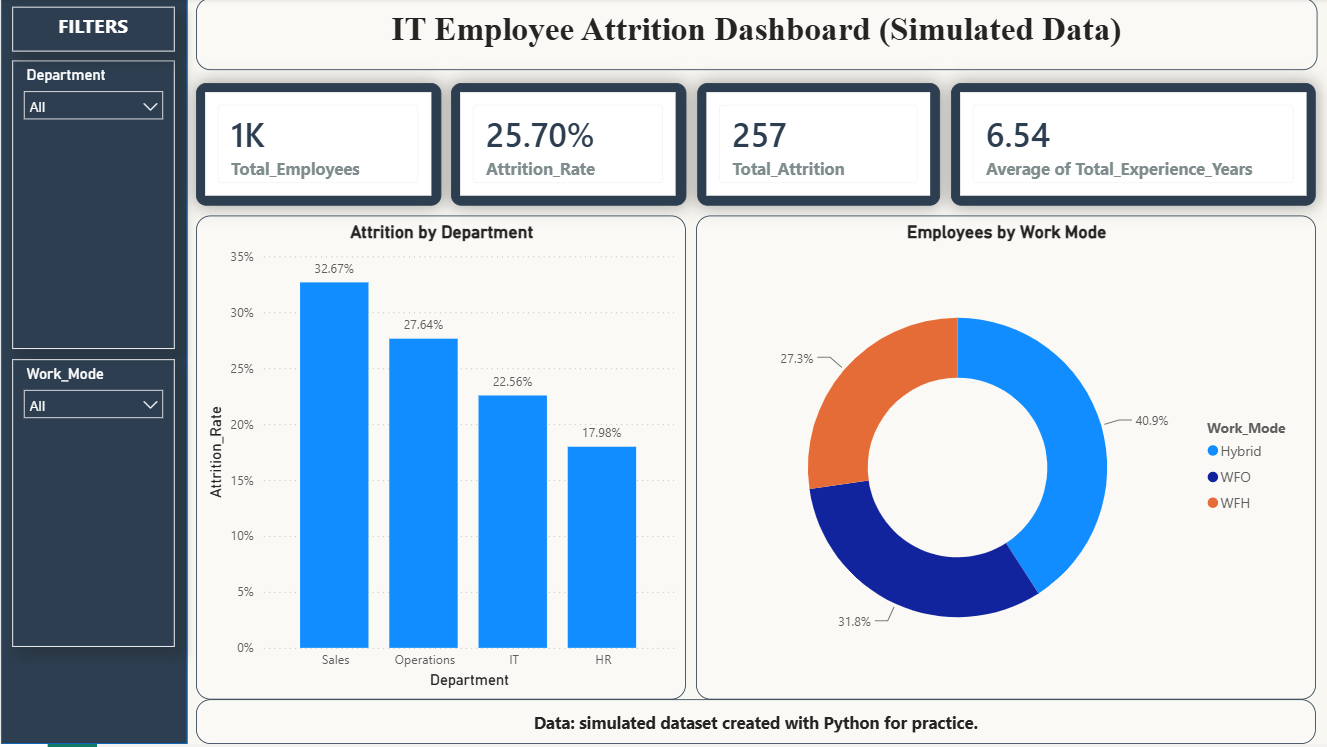

Layout of this report page (visuals, bound fields, positions):
{"tool":"powerbi","page":{"name":"Page 1","canvas":[1280,720],"ordinal":0},"visuals":[{"type":"shape","box":[0,0,180,720.2],"z":0},{"type":"slicer","fields":{"Values":["it_employee_attrition_dataset csv.Department"]},"box":[11.1,60.4,156.6,278.7],"z":1000},{"type":"slicer","fields":{"Values":["it_employee_attrition_dataset csv.Work_Mode"]},"box":[11.1,349,156.6,277.5],"z":2000},{"type":"cardVisual","fields":{"Data":["it_employee_attrition_dataset csv.Total_Employees"]},"box":[188.2,82,236.5,118.2],"z":3000},{"type":"cardVisual","fields":{"Data":["Avg(it_employee_attrition_dataset csv.Total_Experience_Years)"]},"box":[916.9,82,352.3,118.2],"z":4000},{"type":"cardVisual","fields":{"Data":["it_employee_attrition_dataset csv.Attrition_Rate"]},"box":[434.3,82,226.8,118.2],"z":5000},{"type":"cardVisual","fields":{"Data":["it_employee_attrition_dataset csv.Total_Attrition"]},"box":[672,82,234,118.2],"z":6000},{"type":"textbox","box":[188.2,0,1082.2,70],"z":7000},{"type":"clusteredColumnChart","title":"Attrition by Department","fields":{"Category":["it_employee_attrition_dataset csv.Department"],"Y":["it_employee_attrition_dataset csv.Attrition_Rate"]},"box":[188.2,209.9,472.9,466.9],"z":8000},{"type":"donutChart","title":"Employees by Work Mode","fields":{"Category":["it_employee_attrition_dataset csv.Work_Mode"],"Y":["it_employee_attrition_dataset csv.Total_Employees"]},"box":[670.8,209.9,598.4,466.9],"z":9000},{"type":"textbox","box":[11.1,8.6,156.6,43.2],"z":10000},{"type":"textbox","box":[188.2,676.8,1081,43.4],"z":10001}]}

Visuals, with their boxes in screenshot pixels (x1, y1, x2, y2), scaled from the page's 1280x720 canvas onto the 1327x747 screenshot:
shape: BBox(0, 0, 187, 746)
slicer - it_employee_attrition_dataset csv.Department: BBox(12, 63, 174, 352)
slicer - it_employee_attrition_dataset csv.Work_Mode: BBox(12, 362, 174, 650)
cardVisual - it_employee_attrition_dataset csv.Total_Employees: BBox(195, 85, 440, 208)
cardVisual - Avg(it_employee_attrition_dataset csv.Total_Experience_Years): BBox(951, 85, 1316, 208)
cardVisual - it_employee_attrition_dataset csv.Attrition_Rate: BBox(450, 85, 685, 208)
cardVisual - it_employee_attrition_dataset csv.Total_Attrition: BBox(697, 85, 939, 208)
textbox: BBox(195, 0, 1317, 73)
"Attrition by Department" clusteredColumnChart: BBox(195, 218, 685, 702)
"Employees by Work Mode" donutChart: BBox(695, 218, 1316, 702)
textbox: BBox(12, 9, 174, 54)
textbox: BBox(195, 702, 1316, 746)
